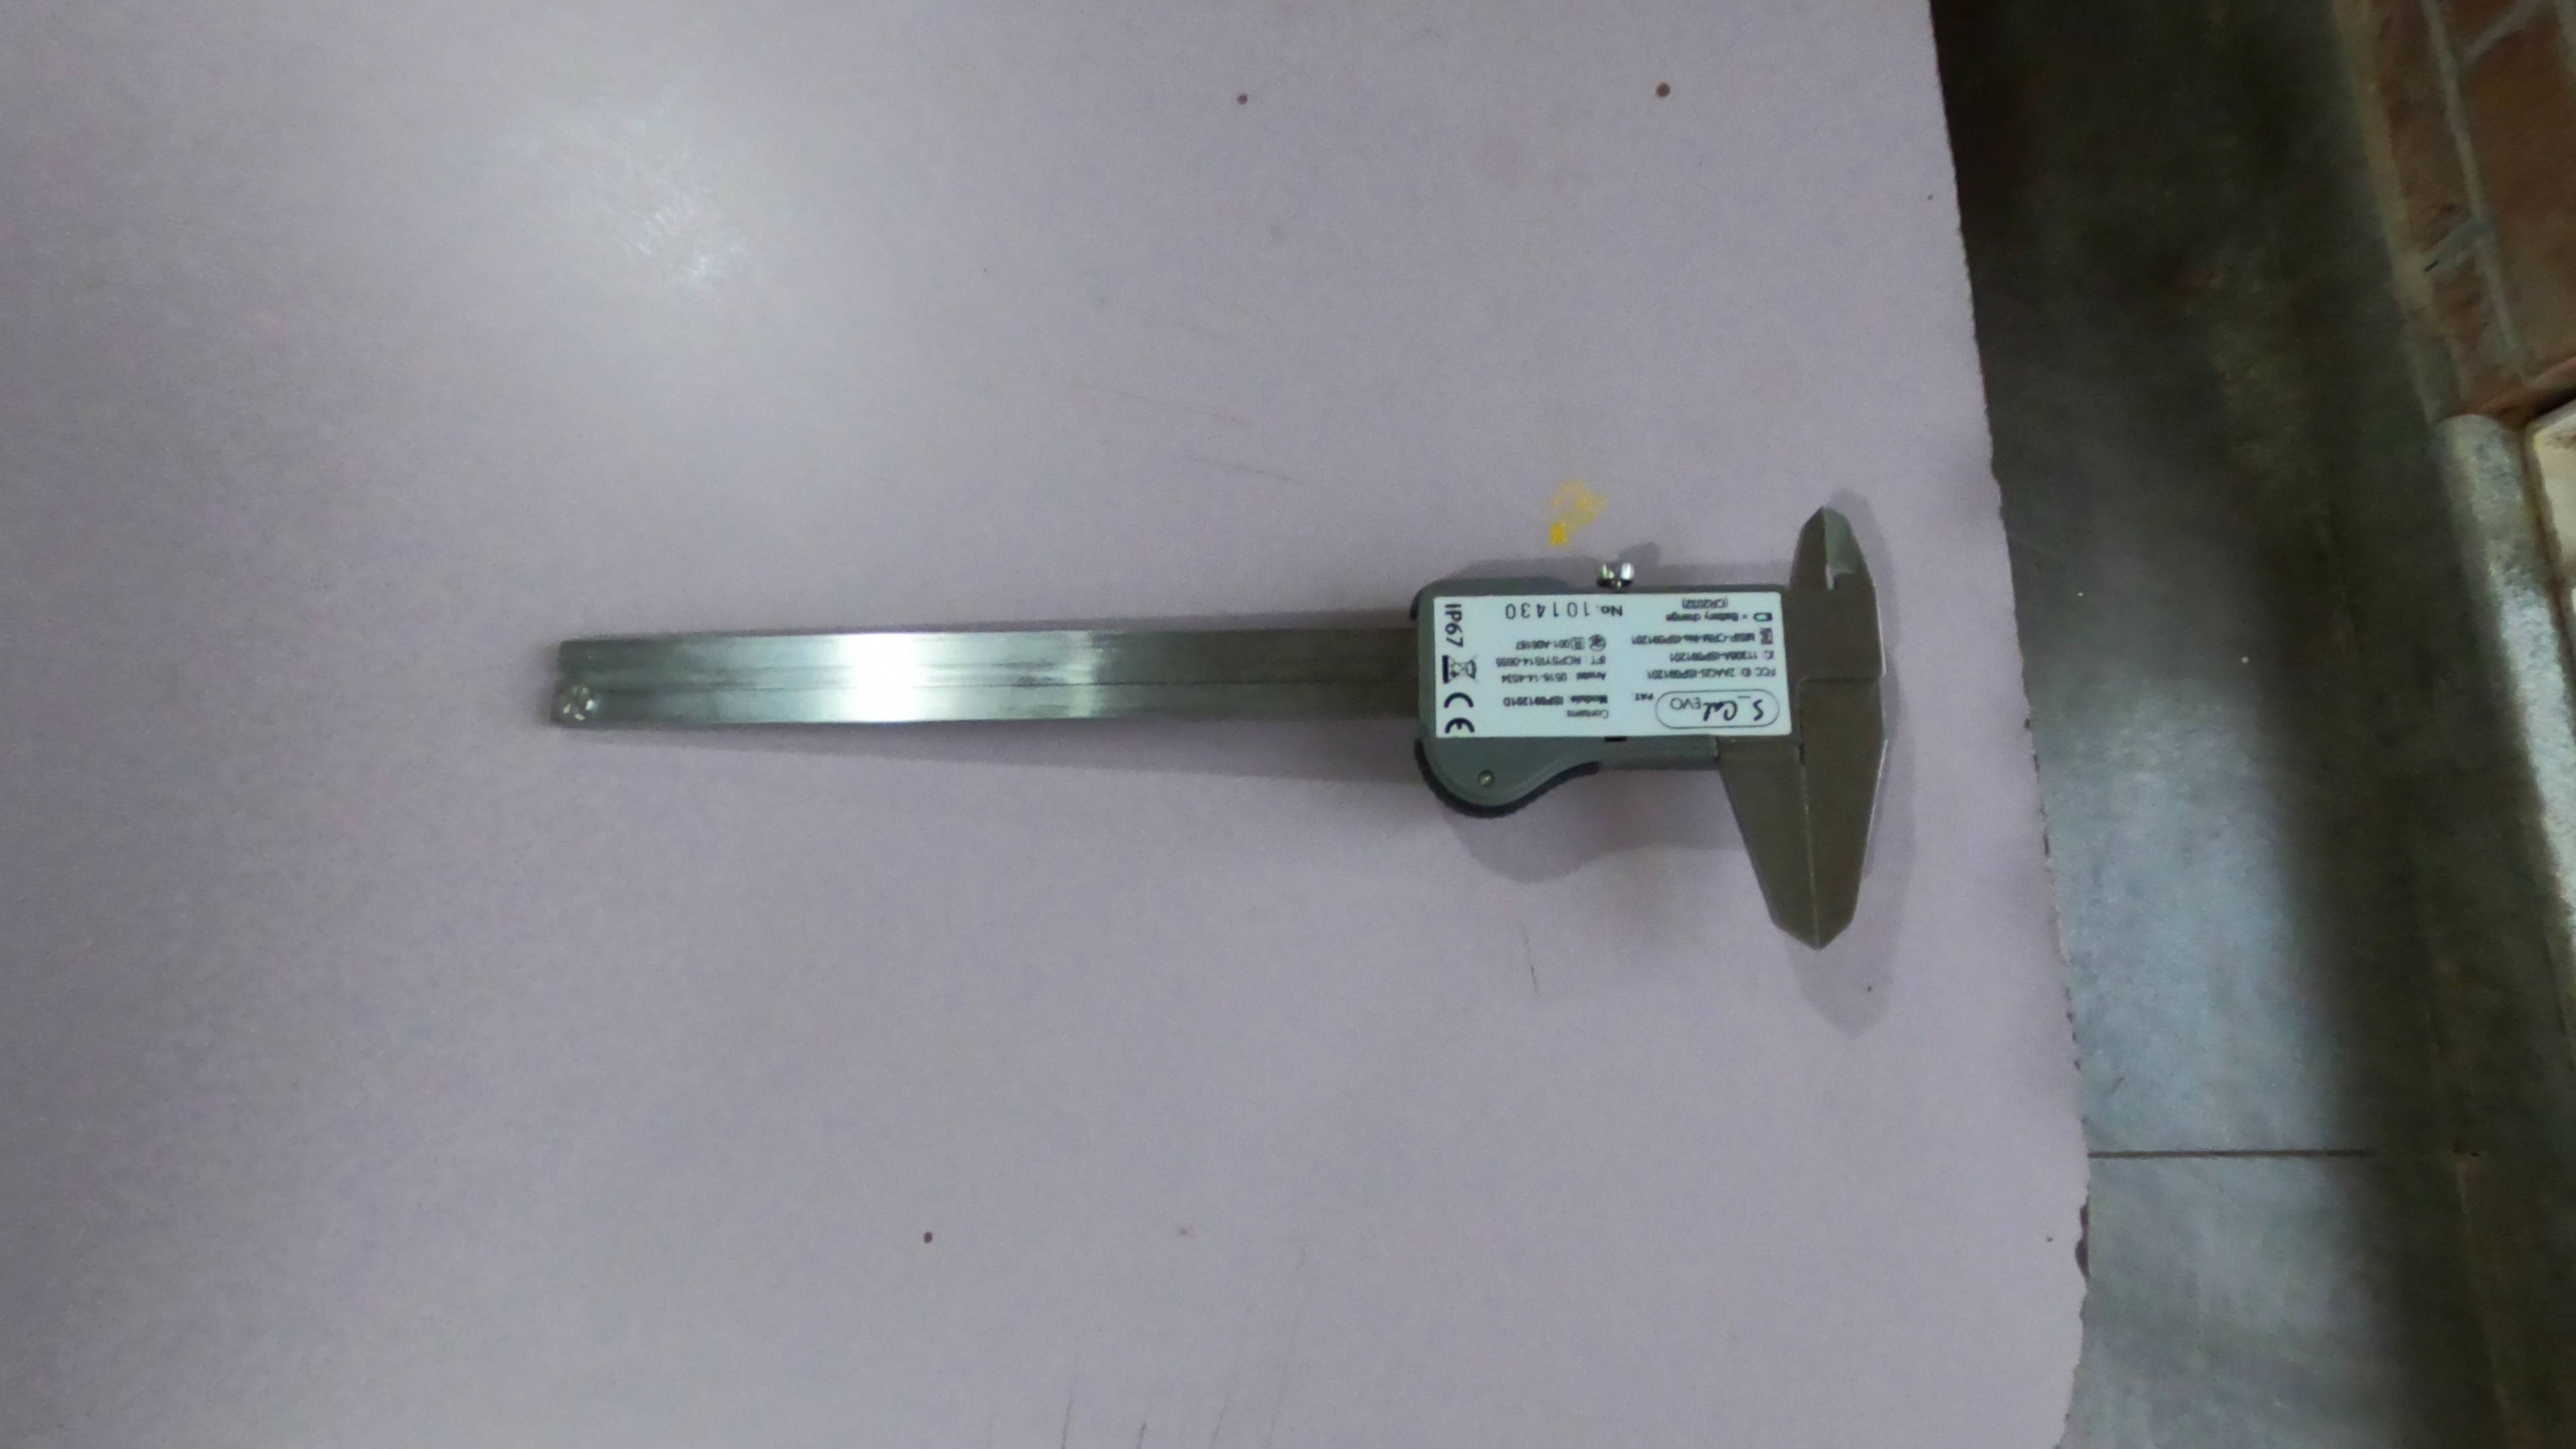vernier_caliper: (540, 499, 1884, 950)
